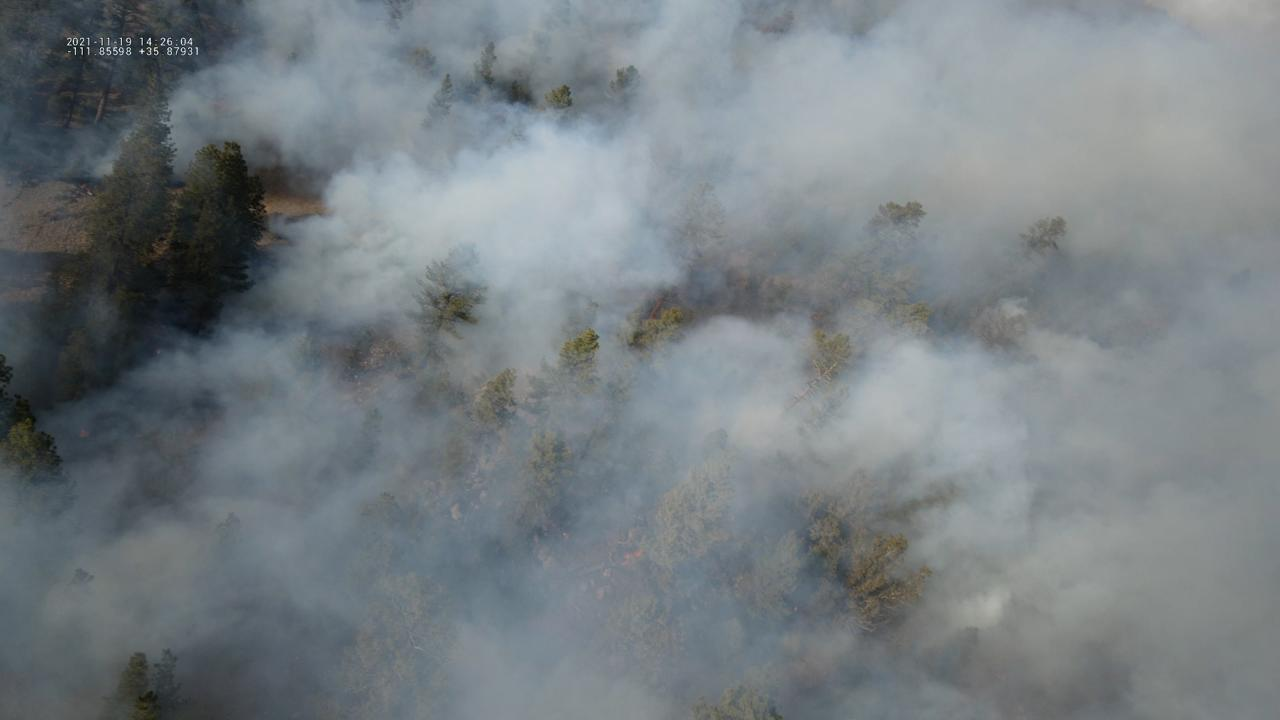fire: (77, 429, 92, 440)
smoke: (0, 0, 1280, 720)
